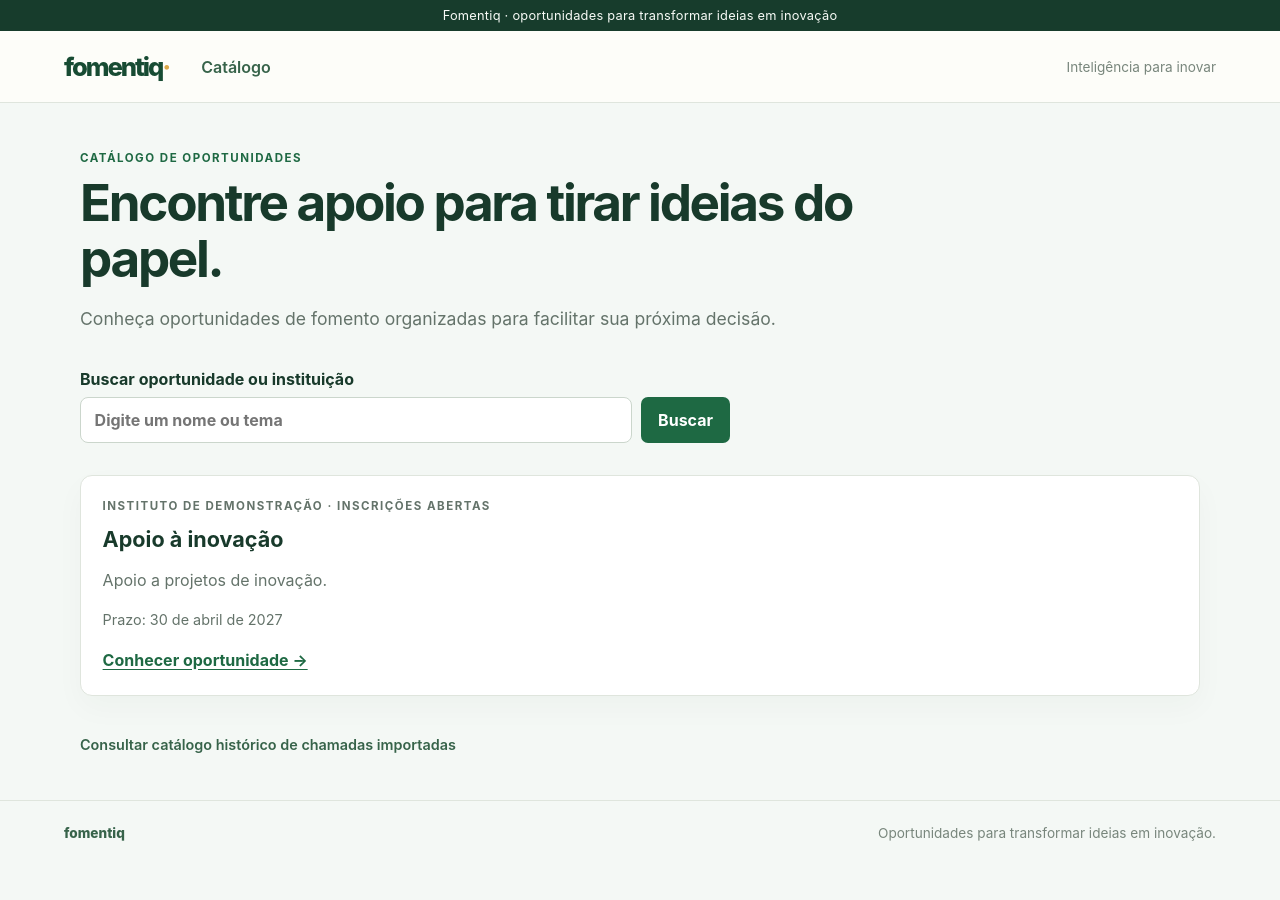
Test: manual editorial experience › shows only API-published opportunities and opens an editorial detail
Expected: the heading "Apoio à inovação" is shown, [103,526,284,552]
Expected: the text "Instituto de Demonstração · Inscrições abertas" is shown, [103,499,491,513]
Click the link "Conhecer oportunidade →".
click(205, 660)  # box [103,646,308,674]
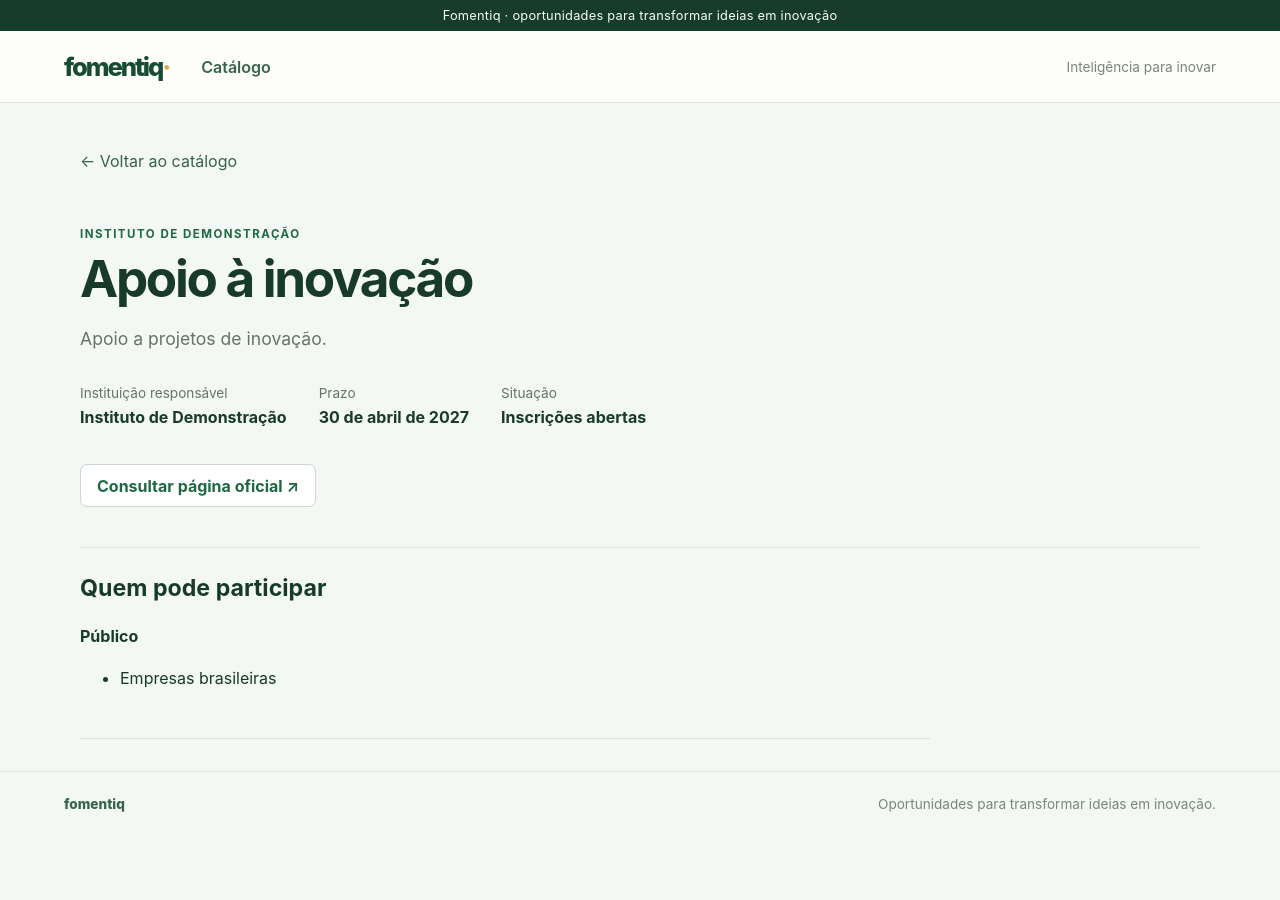
Result: the heading "Quem pode participar" is shown at [80,574,326,602]
Result: the list item "Empresas brasileiras" is shown at [120,668,276,688]
